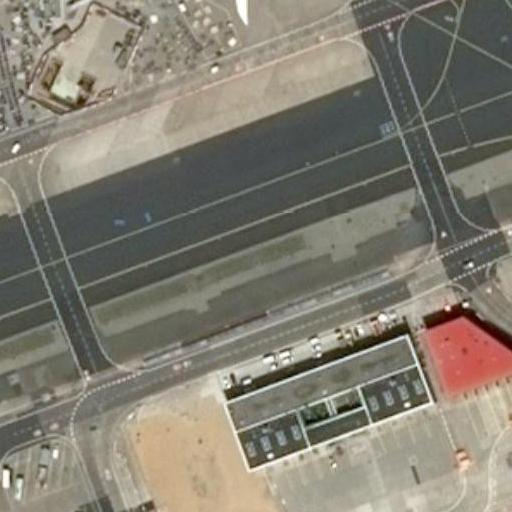Aircraft: (161, 0, 345, 26)
